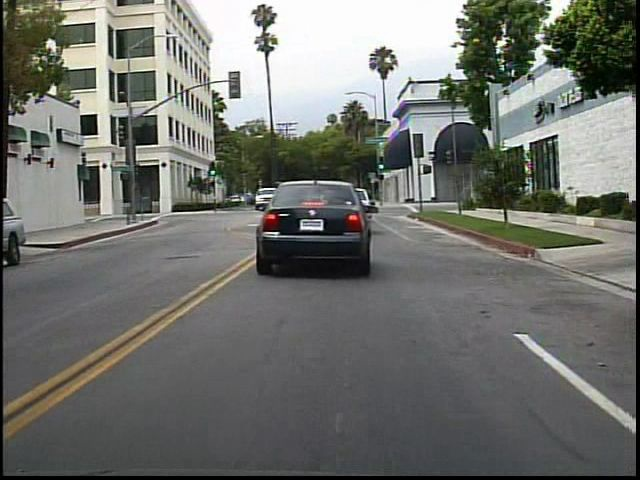person: (313, 180, 339, 221)
